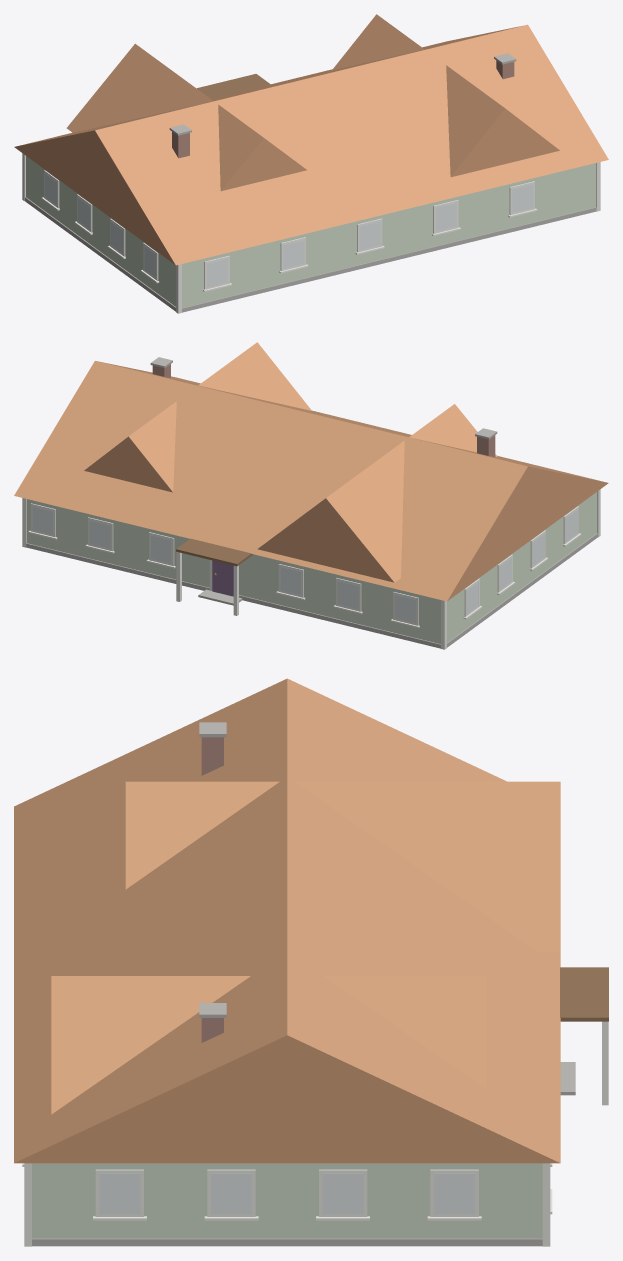
The model's file is house_large_c.glb.
The picture shows the model from 3 angles, top to bottom: view 1: azimuth 30°, elevation 25°; view 2: azimuth 150°, elevation 25°; view 3: azimuth 270°, elevation 25°; orthographic projection. The views are drawn at different scales.
Visible parts, largest first — view 1: roof, body; view 2: roof, body; view 3: roof, body.
Part boxes in pixels (x1,y1,x2,y2): roof: (14, 14, 608, 265); body: (22, 74, 600, 313); roof: (14, 342, 608, 601); body: (22, 489, 600, 649); roof: (14, 678, 560, 1163); body: (22, 967, 608, 1246).
Size of the model in its own units: 22.7 by 6.49 by 16.
